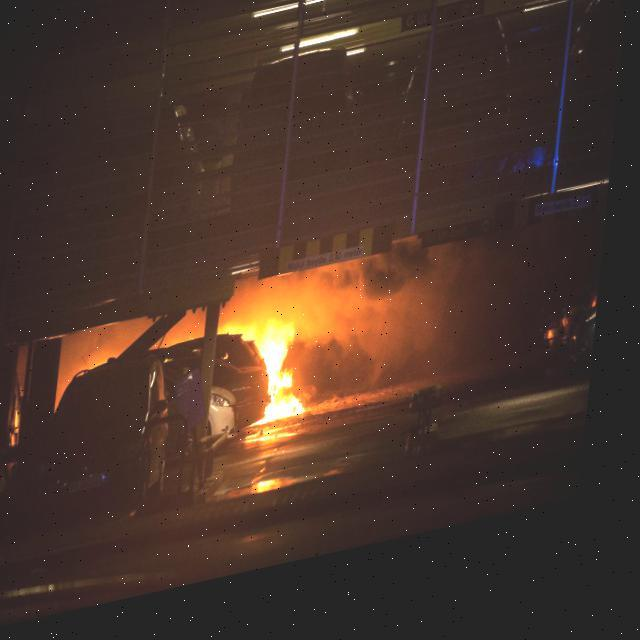Fire: (556, 352, 566, 372)
